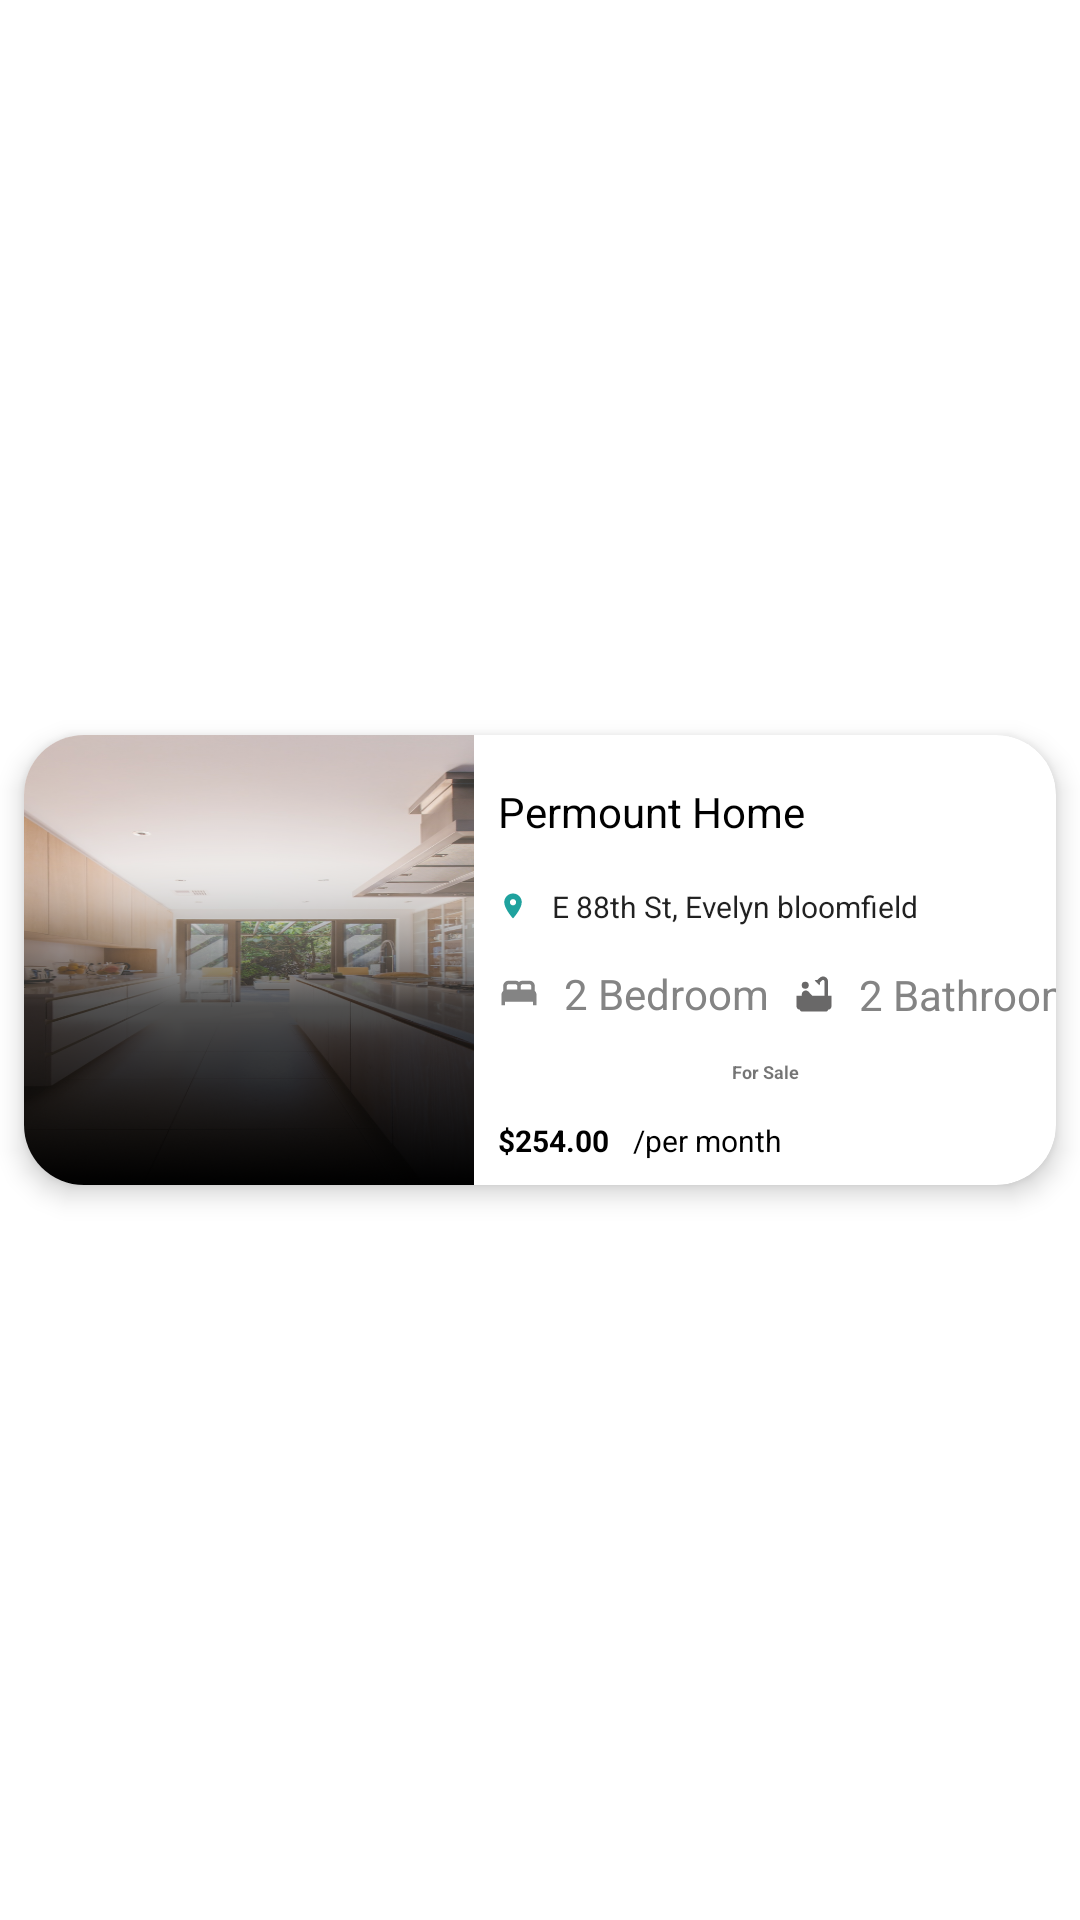

Named icons in this screenshot (1080*1920) and their centers, (x=x, y=y):
bathtub: (x=814, y=994)
bed: (x=519, y=993)
